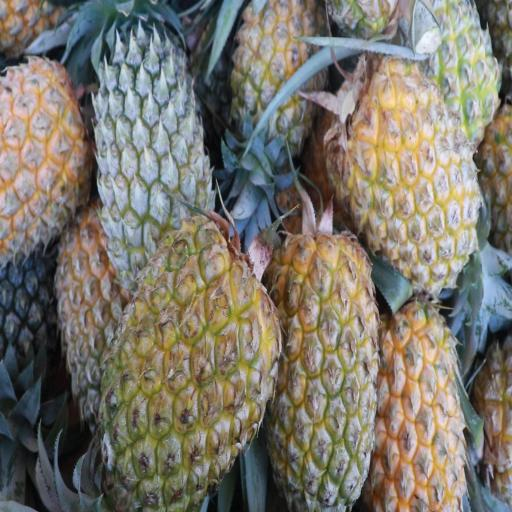------------------------------: (57, 219, 134, 434), (232, 0, 326, 149)
Pineapple - v8 v1: (102, 217, 273, 512), (272, 233, 374, 508), (344, 64, 474, 279), (376, 297, 464, 509), (0, 58, 87, 232)
